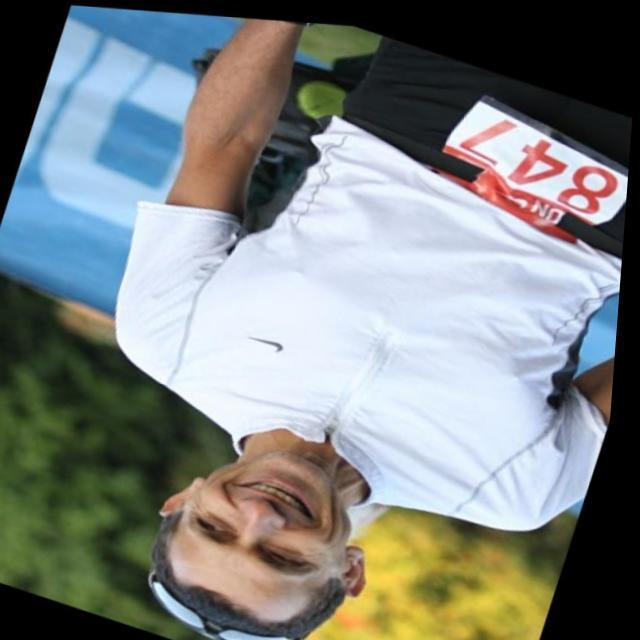dorsal: (409, 74, 636, 243)
